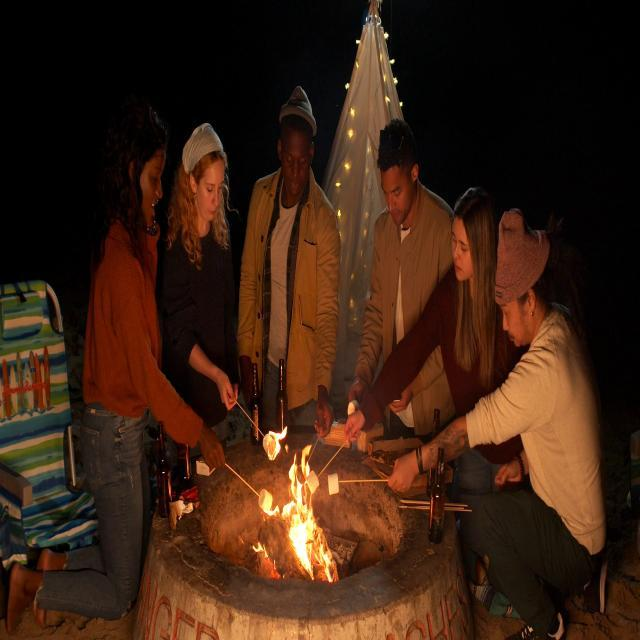Fire: (268, 428, 335, 582)
